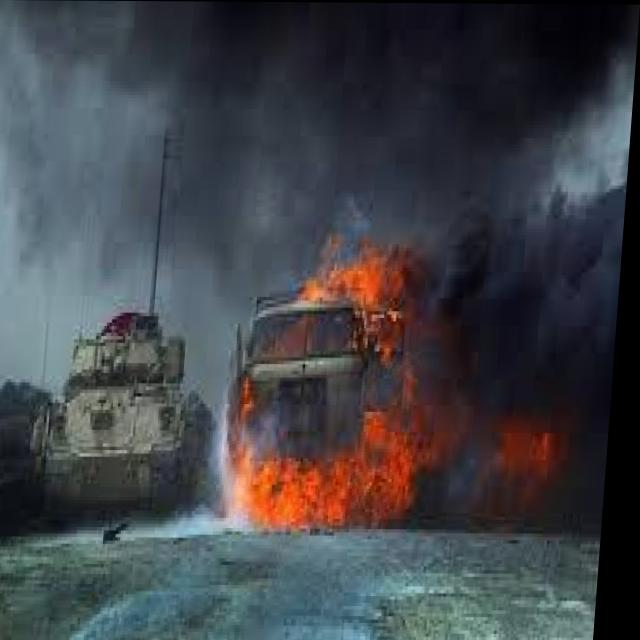fire: (218, 246, 458, 535), (489, 408, 595, 519)
